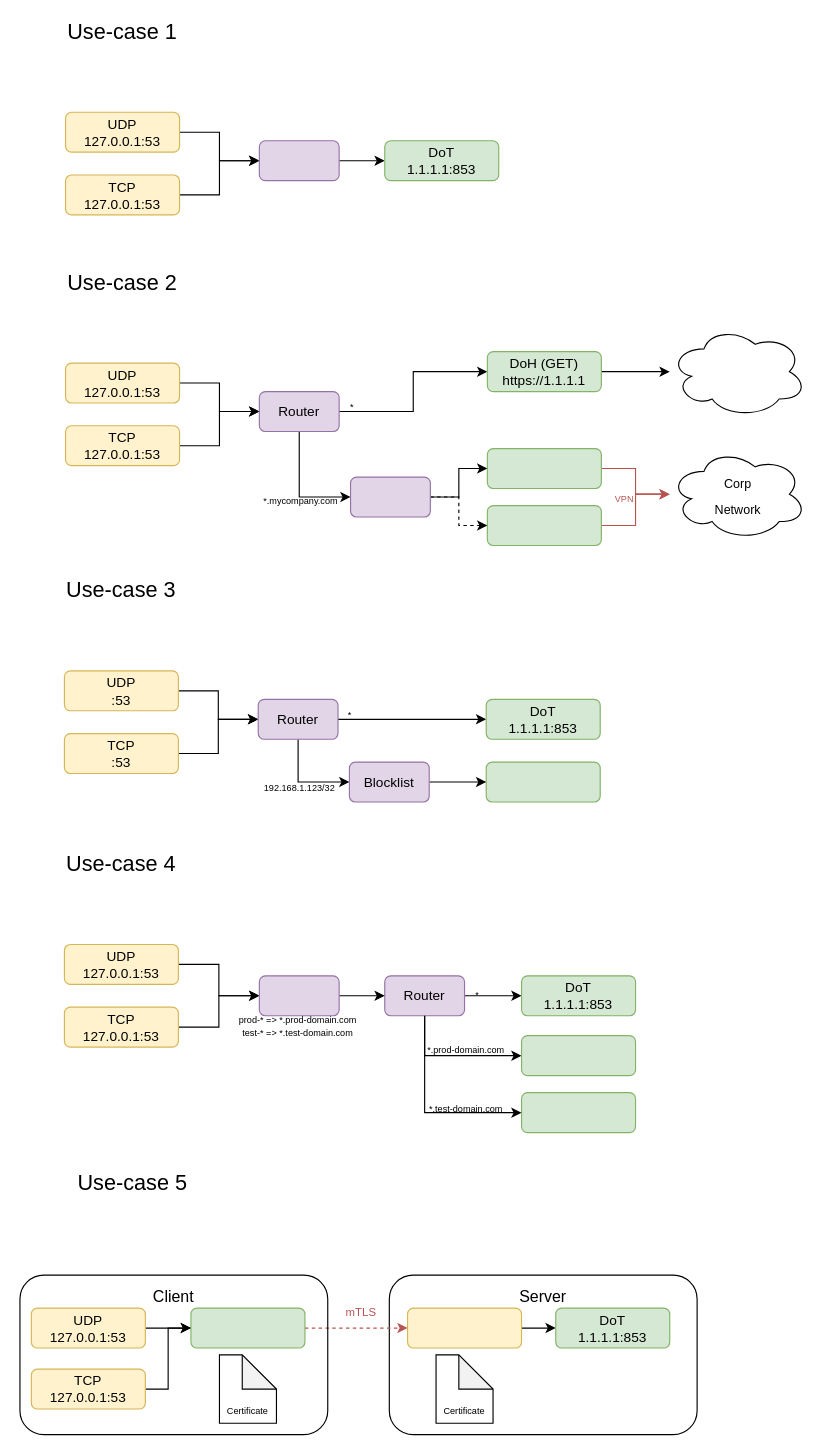
Image size: 827x1455. Some labels were removed from this diagram. The shapes that lost their labels are listed below. From the top down, each one's centre as x and y in pixels, then its label:
At [298,160]: "Cache".
At [738,371]: "Internet".
At [543,467]: "UDP-A 10.0.0.1:53".
At [389,496]: "Fail-Rotate".
At [543,524]: "UDP-B 10.0.0.2:53".
At [542,781]: "DoT cleanbrowsing:853".
At [298,995]: "Replace".
At [578,1055]: "UDP 10.1.1.1:53".
At [578,1112]: "UDP 10.2.1.1:53".
At [247,1327]: "DoH (GET) https://server".
At [464,1327]: "DoH :443".
